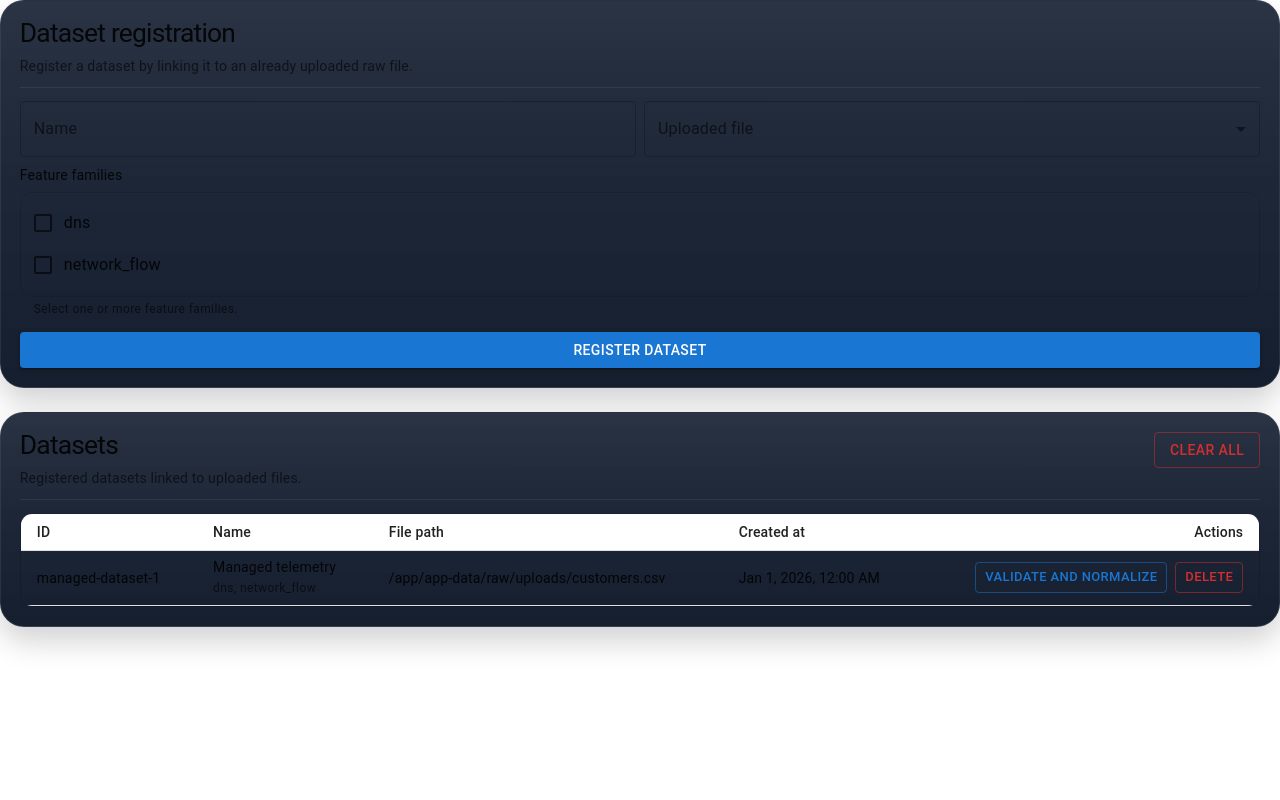
Scenario: DataManagementPage › queues validation for a managed dataset from the registry table
Click the button "Validate and normalize" at (1071, 578), box [975,562,1167,593]
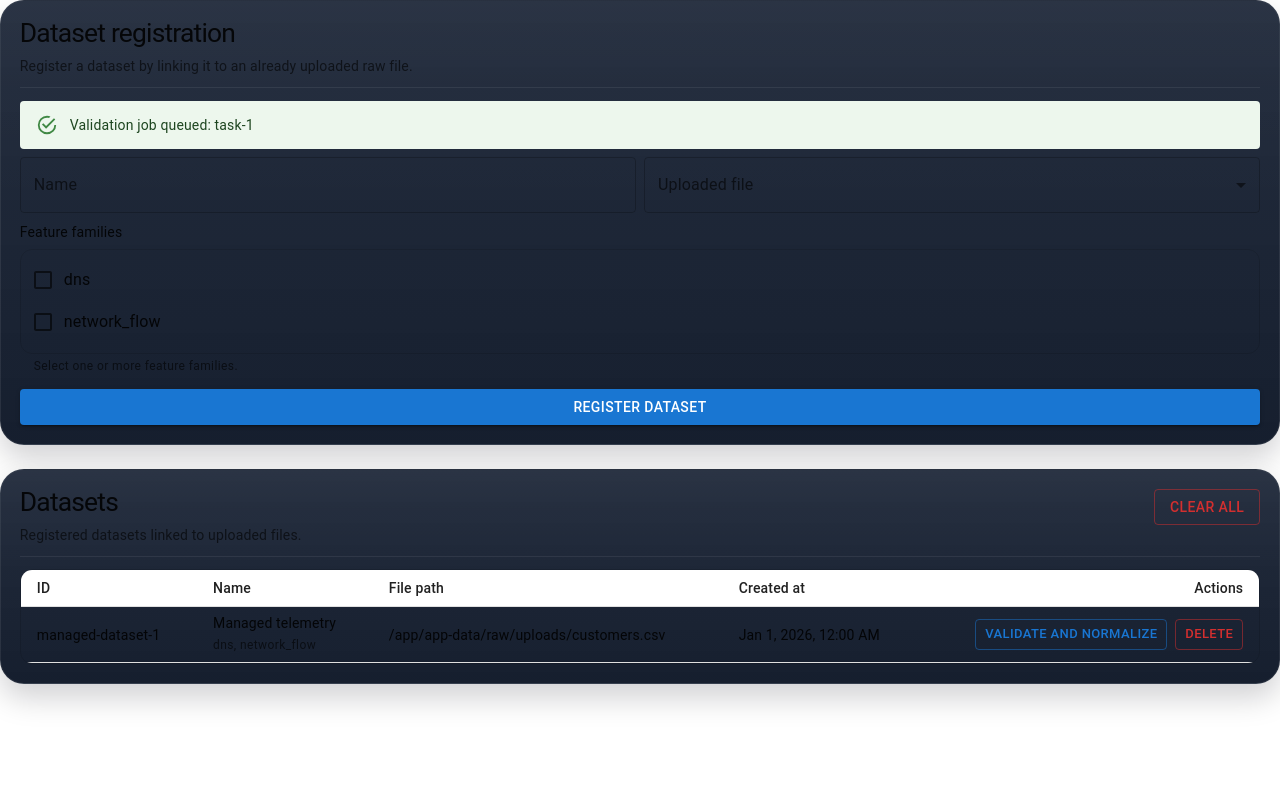
Check: the text "Validation job queued: task-1" is shown, box [70,116,254,132]
